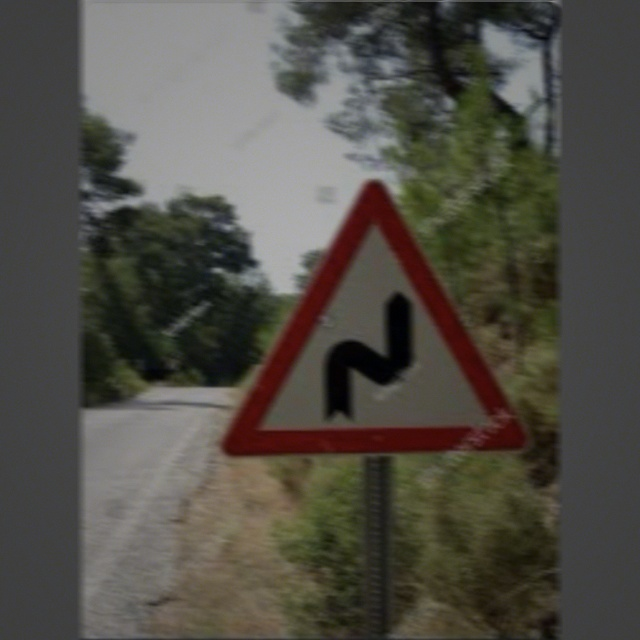Right_Reverse_Bend: (250, 200, 518, 449)
